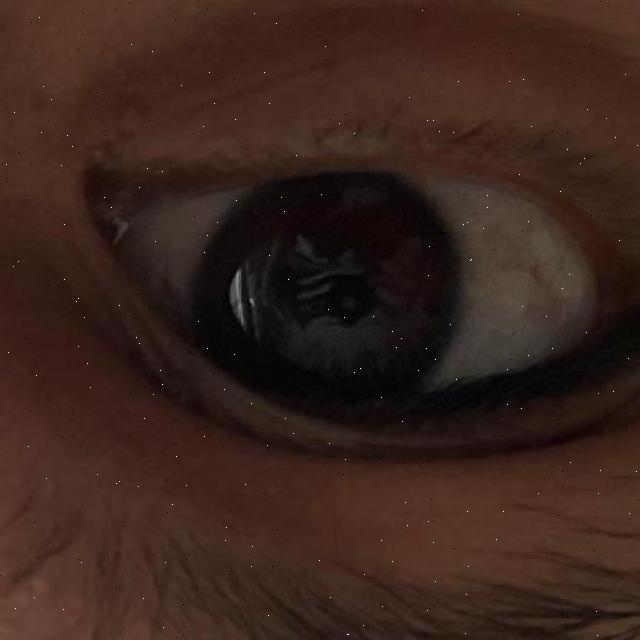Normal: (187, 159, 466, 419)
